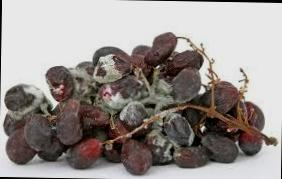Grape Rotten: (2, 28, 279, 177)
